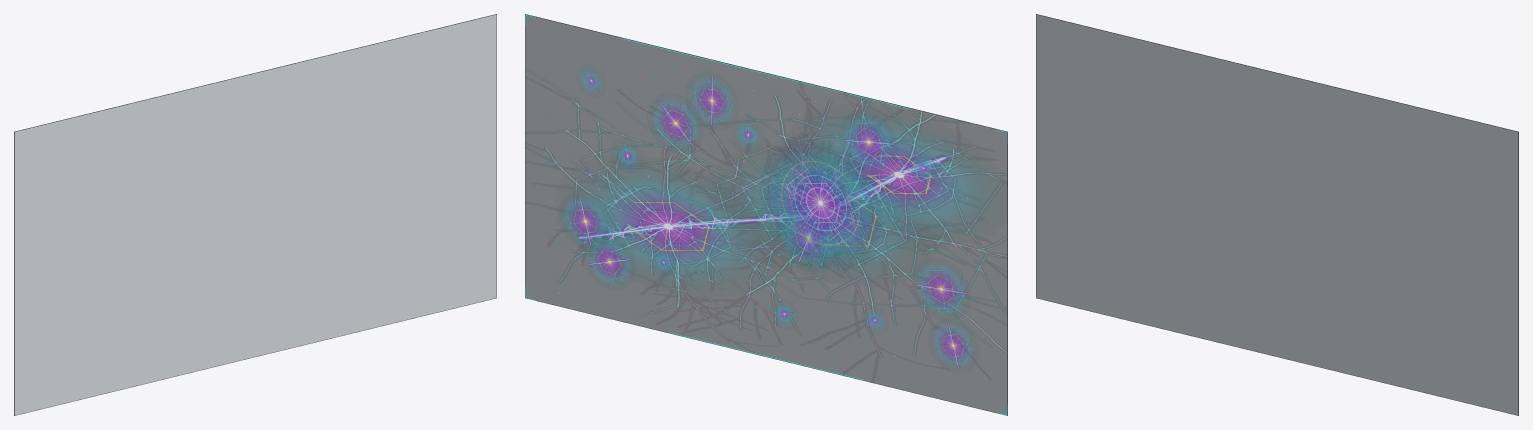
The model's file is screen_decals_tachyon_lance.glb.
The picture shows the model from 3 angles, left to right: view 1: azimuth 30°, elevation 25°; view 2: azimuth 150°, elevation 25°; view 3: azimuth 330°, elevation 25°; orthographic projection.
Parts seen in each view (by area): view 1: Translucent_Clear_Screen, Solid_Back_Panel, Frame_005m_Thick; view 2: Translucent_Clear_Screen, Decal_BrokenSpiderWeb_Screen, Decal_BrokenSpiderWeb_Core, Decal_MissileStrike_03, Decal_MissileStrike_05, Decal_MissileStrike_02, Solid_Front_Panel, Decal_MissileStrike_08, Decal_MissileStrike_04, Decal_MissileStrike_01, Decal_MissileStrike_06, Decal_MissileStrike_07 (+2 smaller); view 3: Translucent_Clear_Screen, Solid_Back_Panel, Frame_005m_Thick.
Boxes of the visible parts, x1,y1,x2,y2 form: Translucent_Clear_Screen: (14, 14, 496, 415); Solid_Back_Panel: (14, 14, 496, 415); Frame_005m_Thick: (14, 14, 496, 415); Translucent_Clear_Screen: (525, 15, 1007, 414); Decal_BrokenSpiderWeb_Screen: (525, 54, 1007, 382); Decal_BrokenSpiderWeb_Core: (764, 131, 884, 269); Decal_MissileStrike_03: (916, 264, 966, 315); Decal_MissileStrike_05: (843, 116, 894, 166); Decal_MissileStrike_02: (649, 100, 700, 147); Solid_Front_Panel: (525, 14, 1007, 415); Decal_MissileStrike_08: (689, 76, 732, 125); Decal_MissileStrike_04: (560, 196, 605, 246); Decal_MissileStrike_01: (782, 212, 832, 269); Decal_MissileStrike_06: (588, 241, 630, 286); Decal_MissileStrike_07: (934, 322, 975, 368); Translucent_Clear_Screen: (1036, 14, 1518, 415); Solid_Back_Panel: (1036, 14, 1518, 415); Frame_005m_Thick: (1036, 14, 1518, 415).
Bounding box in the file's own units: 1.6 × 0.9371 × 0.00155.
Materials: 9 (5 with a texture image).
